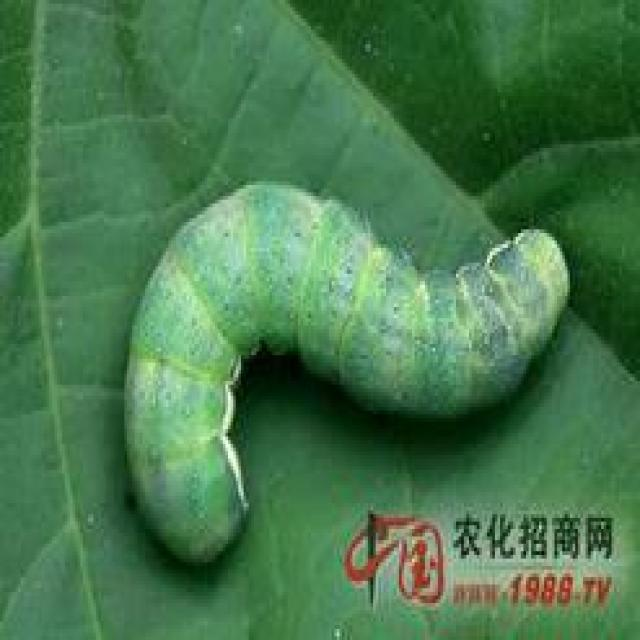BeetArmyWorm-Larva-: (113, 172, 570, 588)
